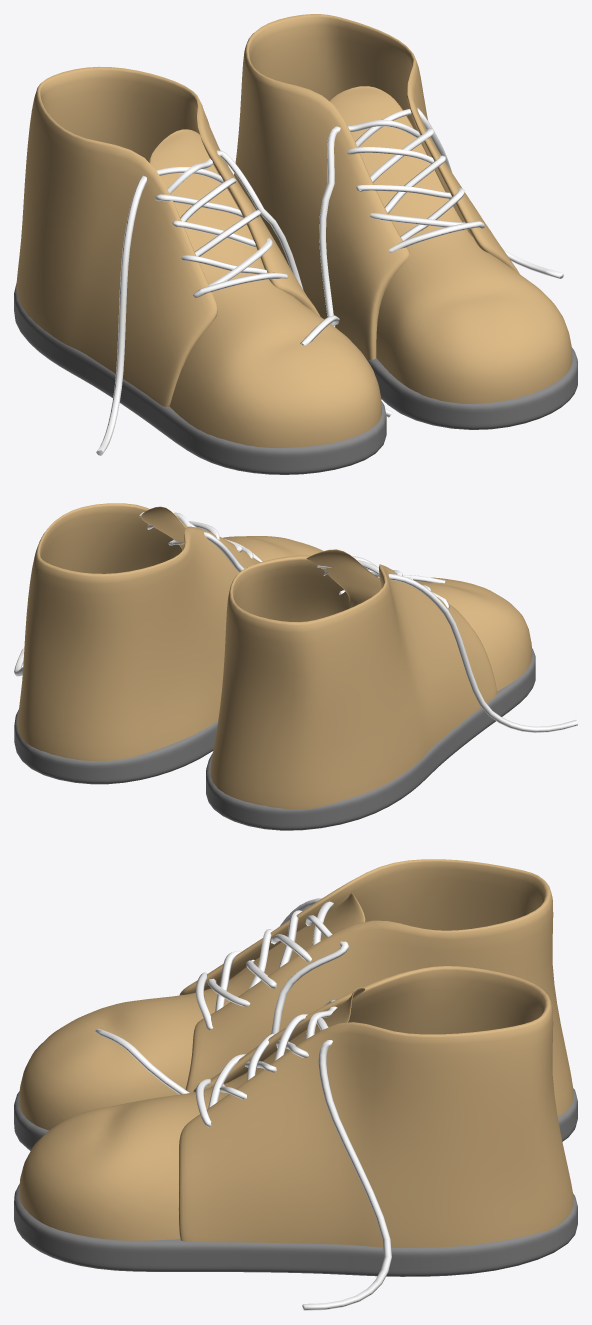
The model's file is shoesclosed.glb.
3 views of the same model, one above another, from view 1: azimuth 30°, elevation 25°; view 2: azimuth 150°, elevation 25°; view 3: azimuth 270°, elevation 25° (orthographic). The views are drawn at different scales.
Visible parts, largest first — view 1: shoes; view 2: shoes; view 3: shoes.
Boxes of the visible parts, x1=… form: shoes: x1=14, y1=14, x2=577, y2=474; shoes: x1=14, y1=503, x2=577, y2=830; shoes: x1=14, y1=859, x2=577, y2=1310.
Size of the model in its own units: 0.7319 by 0.292 by 0.6364.
